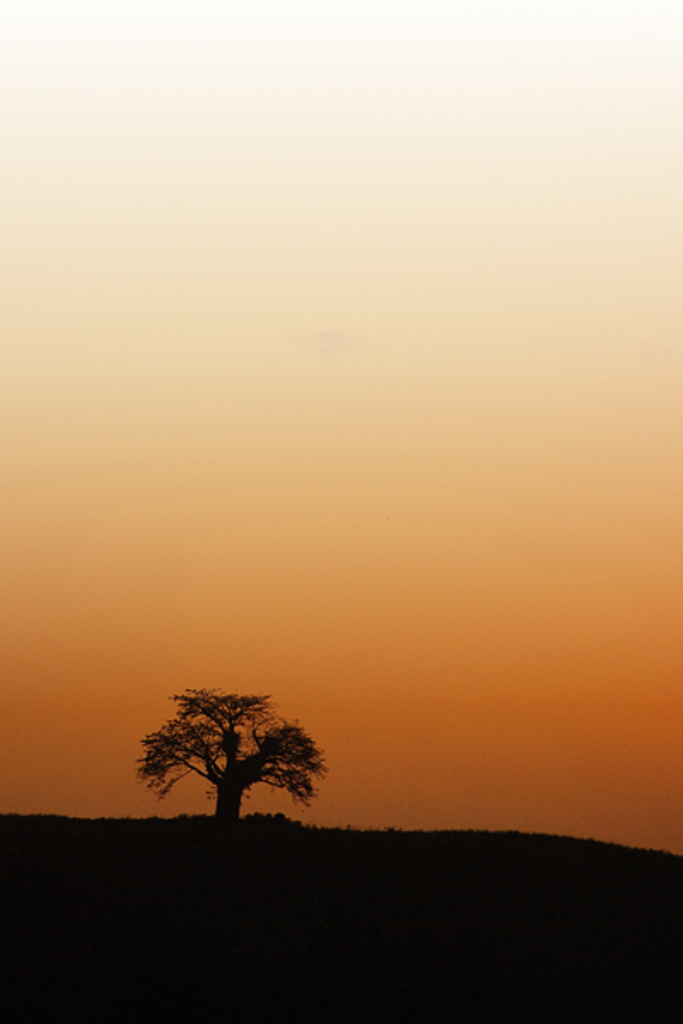Tree: (136, 682, 332, 818)
